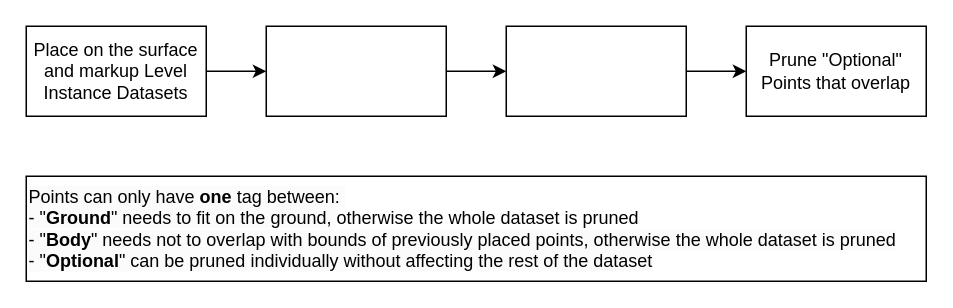
Some shapes in this 953 by 308 pixel diagram are drawn without their labels. Each missing label, with the centre of its shape:
Prune Dataset with a "Body" point overlapp ing (prune smaller first): [595,70]
Prune Dataset with a "Ground" point not fitting on ground: [355,70]
